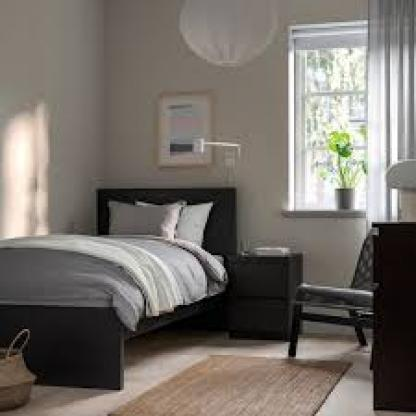Bed: (0, 176, 235, 387)
Curtains: (355, 0, 416, 240)
